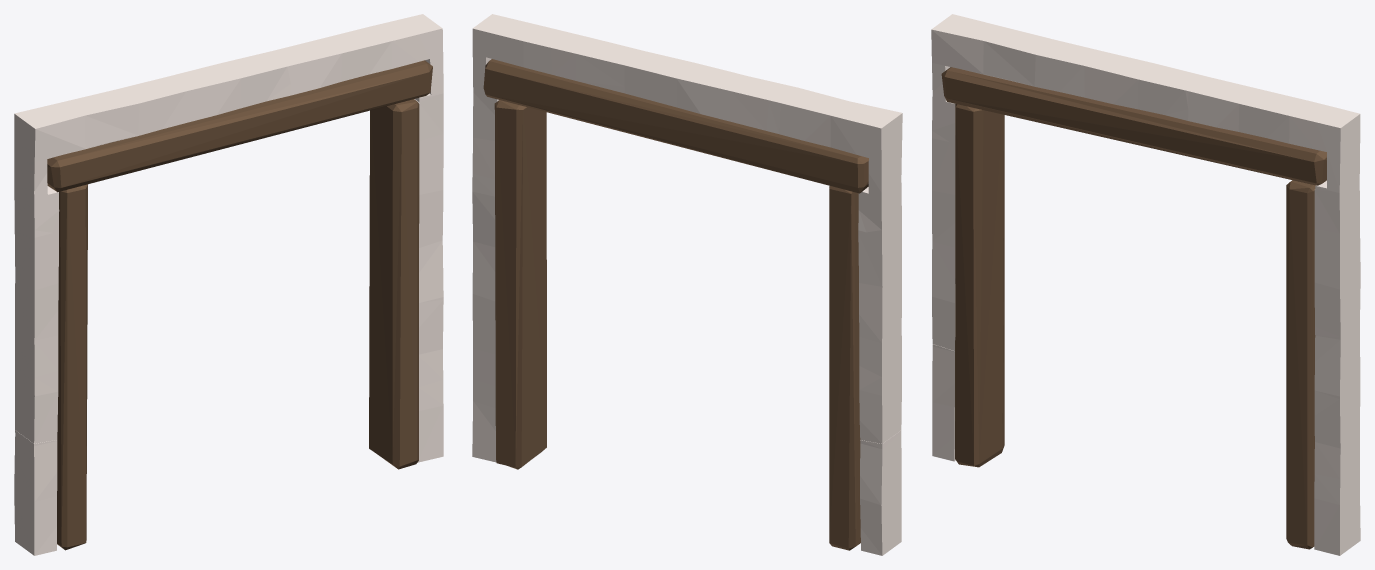
The model's file is PKF_PKX_Wall_Int_Arch_v2.fbx.
3 views of the same model, side by side, from view 1: azimuth 30°, elevation 25°; view 2: azimuth 150°, elevation 25°; view 3: azimuth 330°, elevation 25° (orthographic).
Visible parts, largest first — view 1: PKX_Wall_Int_Arch_Chunk_17, PKX_Wall_Int_Arch_Chunk_18, PKX_Wall_Int_Arch_Chunk_16, PKX_Wall_Int_Arch_Chunk_10, PKX_Wall_Int_Arch_Chunk_06, PKX_Wall_Int_Arch_Chunk_01, PKX_Wall_Int_Arch_Chunk_14, PKX_Wall_Int_Arch_Chunk_03, PKX_Wall_Int_Arch_Chunk_08, PKX_Wall_Int_Arch_Chunk_11, PKX_Wall_Int_Arch_Chunk_15, PKX_Wall_Int_Arch_Chunk_12 (+7 smaller); view 2: PKX_Wall_Int_Arch_Chunk_17, PKX_Wall_Int_Arch_Chunk_18, PKX_Wall_Int_Arch_Chunk_16, PKX_Wall_Int_Arch_Chunk_10, PKX_Wall_Int_Arch_Chunk_06, PKX_Wall_Int_Arch_Chunk_01, PKX_Wall_Int_Arch_Chunk_14, PKX_Wall_Int_Arch_Chunk_03, PKX_Wall_Int_Arch_Chunk_08, PKX_Wall_Int_Arch_Chunk_11, PKX_Wall_Int_Arch_Chunk_15, PKX_Wall_Int_Arch_Chunk_12 (+7 smaller); view 3: PKX_Wall_Int_Arch_Chunk_16, PKX_Wall_Int_Arch_Chunk_18, PKX_Wall_Int_Arch_Chunk_17, PKX_Wall_Int_Arch_Chunk_10, PKX_Wall_Int_Arch_Chunk_07, PKX_Wall_Int_Arch_Chunk_02, PKX_Wall_Int_Arch_Chunk_14, PKX_Wall_Int_Arch_Chunk_00, PKX_Wall_Int_Arch_Chunk_06, PKX_Wall_Int_Arch_Chunk_09, PKX_Wall_Int_Arch_Chunk_05, PKX_Wall_Int_Arch_Chunk_04 (+7 smaller).
Boxes of the visible parts, left/top/right/bottom form: PKX_Wall_Int_Arch_Chunk_17: left=369, top=99, right=419, bottom=469; PKX_Wall_Int_Arch_Chunk_18: left=47, top=60, right=432, bottom=192; PKX_Wall_Int_Arch_Chunk_16: left=57, top=184, right=87, bottom=550; PKX_Wall_Int_Arch_Chunk_10: left=14, top=86, right=150, bottom=162; PKX_Wall_Int_Arch_Chunk_06: left=14, top=216, right=58, bottom=377; PKX_Wall_Int_Arch_Chunk_01: left=14, top=430, right=57, bottom=555; PKX_Wall_Int_Arch_Chunk_14: left=268, top=33, right=364, bottom=94; PKX_Wall_Int_Arch_Chunk_03: left=15, top=363, right=58, bottom=443; PKX_Wall_Int_Arch_Chunk_08: left=14, top=132, right=150, bottom=233; PKX_Wall_Int_Arch_Chunk_11: left=128, top=73, right=199, bottom=132; PKX_Wall_Int_Arch_Chunk_15: left=345, top=20, right=418, bottom=75; PKX_Wall_Int_Arch_Chunk_12: left=180, top=61, right=251, bottom=119; PKX_Wall_Int_Arch_Chunk_17: left=494, top=100, right=546, bottom=469; PKX_Wall_Int_Arch_Chunk_18: left=483, top=59, right=868, bottom=193; PKX_Wall_Int_Arch_Chunk_16: left=829, top=186, right=860, bottom=550; PKX_Wall_Int_Arch_Chunk_10: left=766, top=85, right=902, bottom=162; PKX_Wall_Int_Arch_Chunk_06: left=858, top=215, right=901, bottom=376; PKX_Wall_Int_Arch_Chunk_01: left=860, top=430, right=901, bottom=555; PKX_Wall_Int_Arch_Chunk_14: left=550, top=33, right=647, bottom=92; PKX_Wall_Int_Arch_Chunk_03: left=859, top=363, right=901, bottom=443; PKX_Wall_Int_Arch_Chunk_08: left=858, top=147, right=901, bottom=233; PKX_Wall_Int_Arch_Chunk_11: left=716, top=73, right=788, bottom=130; PKX_Wall_Int_Arch_Chunk_15: left=496, top=20, right=570, bottom=74; PKX_Wall_Int_Arch_Chunk_12: left=664, top=60, right=735, bottom=117; PKX_Wall_Int_Arch_Chunk_16: left=955, top=104, right=1004, bottom=467; PKX_Wall_Int_Arch_Chunk_18: left=941, top=67, right=1326, bottom=185; PKX_Wall_Int_Arch_Chunk_17: left=1286, top=180, right=1315, bottom=549; PKX_Wall_Int_Arch_Chunk_10: left=931, top=14, right=1064, bottom=88; PKX_Wall_Int_Arch_Chunk_07: left=1314, top=178, right=1360, bottom=273; PKX_Wall_Int_Arch_Chunk_02: left=1314, top=384, right=1360, bottom=478; PKX_Wall_Int_Arch_Chunk_14: left=1185, top=76, right=1281, bottom=136; PKX_Wall_Int_Arch_Chunk_00: left=1314, top=465, right=1360, bottom=555; PKX_Wall_Int_Arch_Chunk_06: left=932, top=131, right=955, bottom=282; PKX_Wall_Int_Arch_Chunk_09: left=1315, top=107, right=1360, bottom=191; PKX_Wall_Int_Arch_Chunk_05: left=1314, top=259, right=1360, bottom=336; PKX_Wall_Int_Arch_Chunk_04: left=1314, top=323, right=1360, bottom=398.
Size of the model in its own units: 200 by 200 by 27.85.
